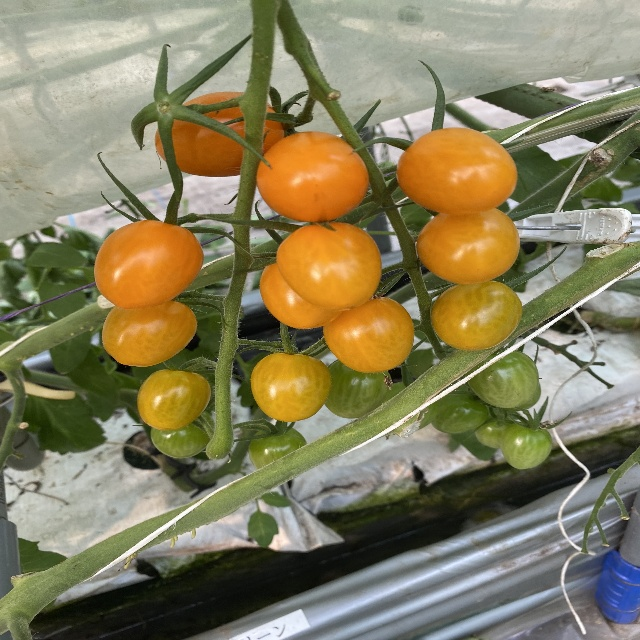l_green: (464, 347, 540, 409), (323, 360, 392, 418), (151, 411, 214, 458), (429, 387, 488, 435), (248, 425, 308, 468), (502, 421, 553, 470), (476, 414, 518, 449)
l_half_ripened: (153, 91, 285, 177), (397, 126, 517, 214), (256, 132, 369, 222), (94, 220, 205, 309), (274, 220, 381, 312), (416, 208, 521, 285), (322, 294, 415, 373), (101, 299, 197, 368), (429, 280, 521, 351), (259, 255, 344, 329), (251, 353, 332, 422), (137, 369, 213, 430)
